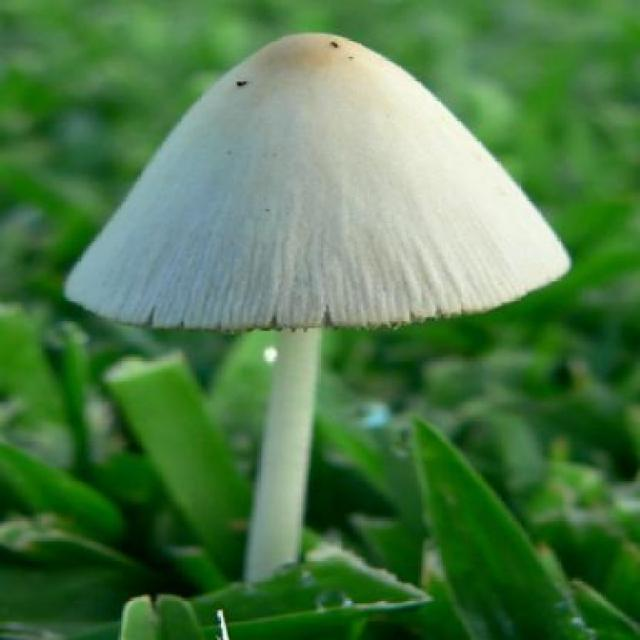Mushroom: (54, 27, 578, 636)
